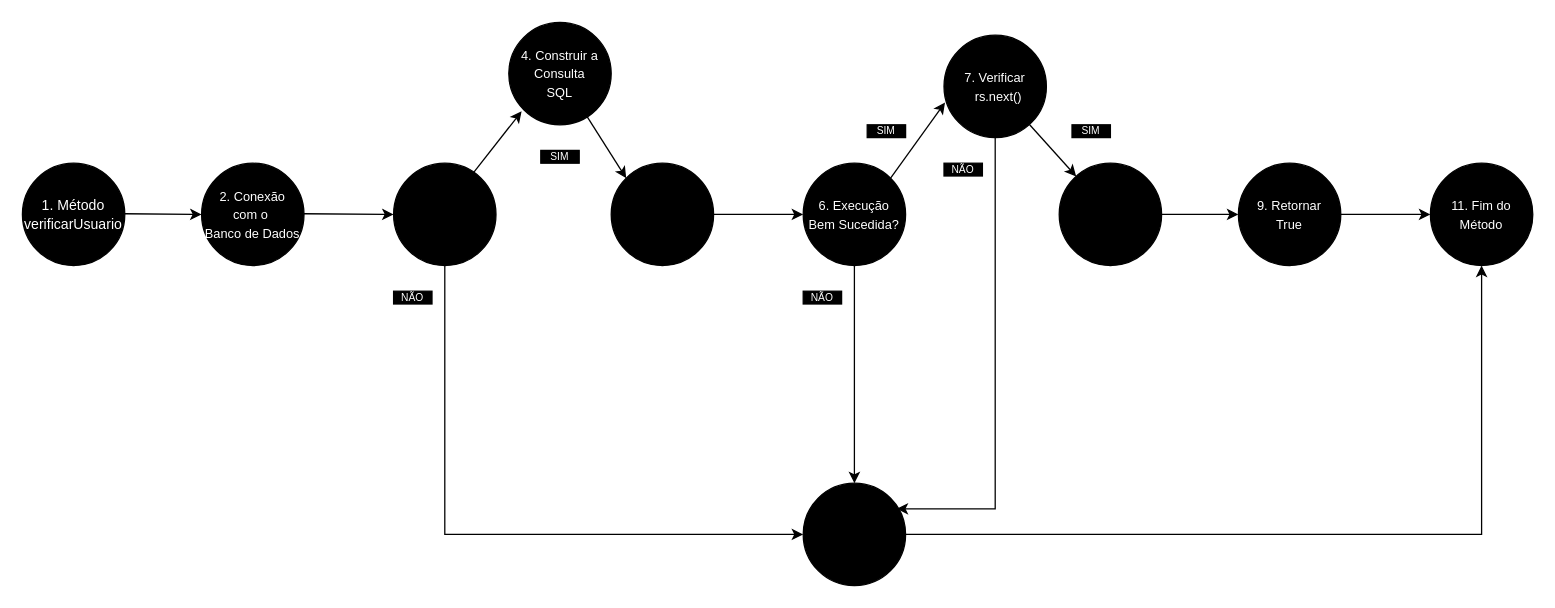
Image size: 1555x608. Some labels were removed from this diagram. The centre of each missing label's shape, as x and y in pixels:
"10. Retornar False" goes at (854,534).
"3. Conexão Bem Sucedida?" goes at (444,214).
"5. Realizar a Execução da Consulta" goes at (662,214).
"8. Atualizar Nome e Result" goes at (1110,214).
